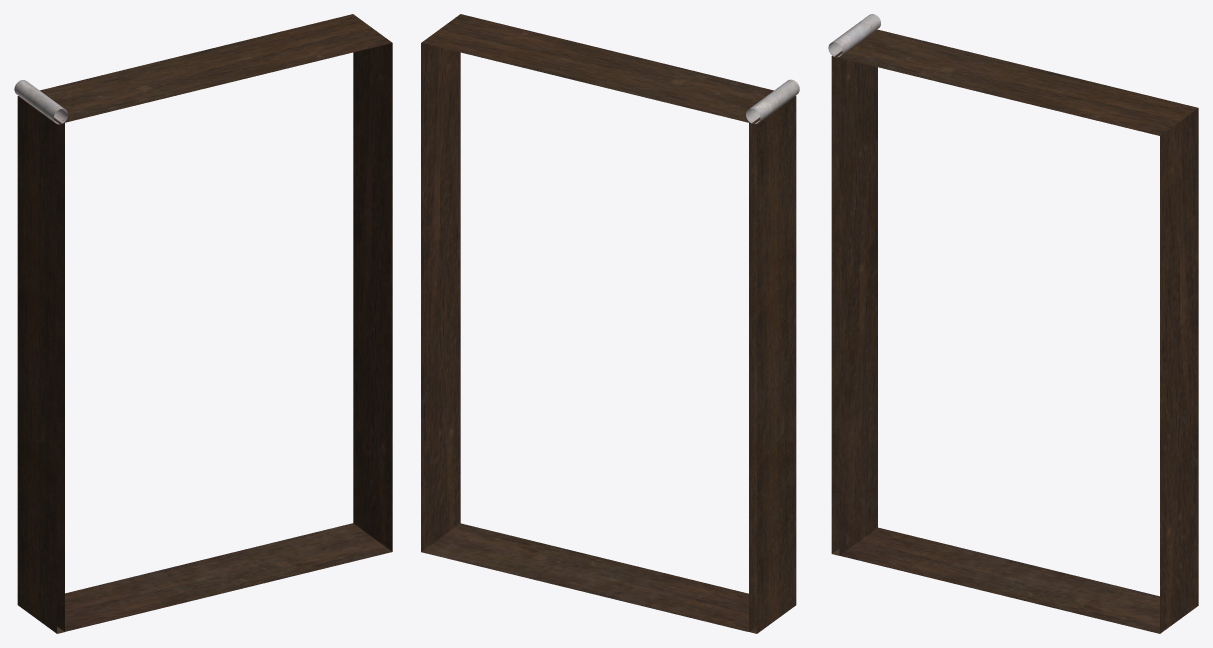
Rendered from SM_ToiletBooth_End_01a.fbx.
The picture shows the model from 3 angles, left to right: view 1: azimuth 30°, elevation 25°; view 2: azimuth 150°, elevation 25°; view 3: azimuth 330°, elevation 25°; orthographic projection. The views are drawn at different scales.
Parts seen in each view (by area): view 1: SM_ToiletBooth_End_01a; view 2: SM_ToiletBooth_End_01a; view 3: SM_ToiletBooth_End_01a.
Boxes of the visible parts, left/top/right/bottom form: SM_ToiletBooth_End_01a: left=14, top=14, right=392, bottom=633; SM_ToiletBooth_End_01a: left=421, top=14, right=799, bottom=633; SM_ToiletBooth_End_01a: left=828, top=14, right=1198, bottom=633.
Size of the model in its own units: 174 by 35.15 by 257.
